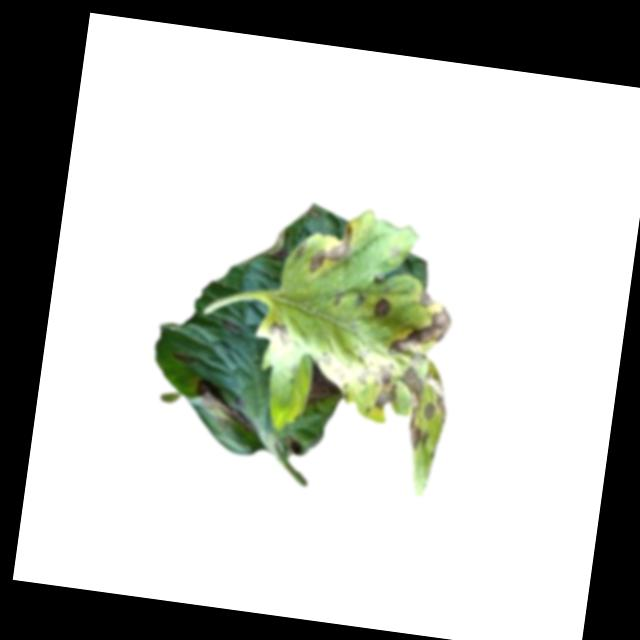Early_blight: (363, 284, 462, 454), (189, 373, 259, 440), (304, 219, 354, 278), (302, 356, 343, 407), (262, 320, 293, 352), (371, 295, 392, 319)
